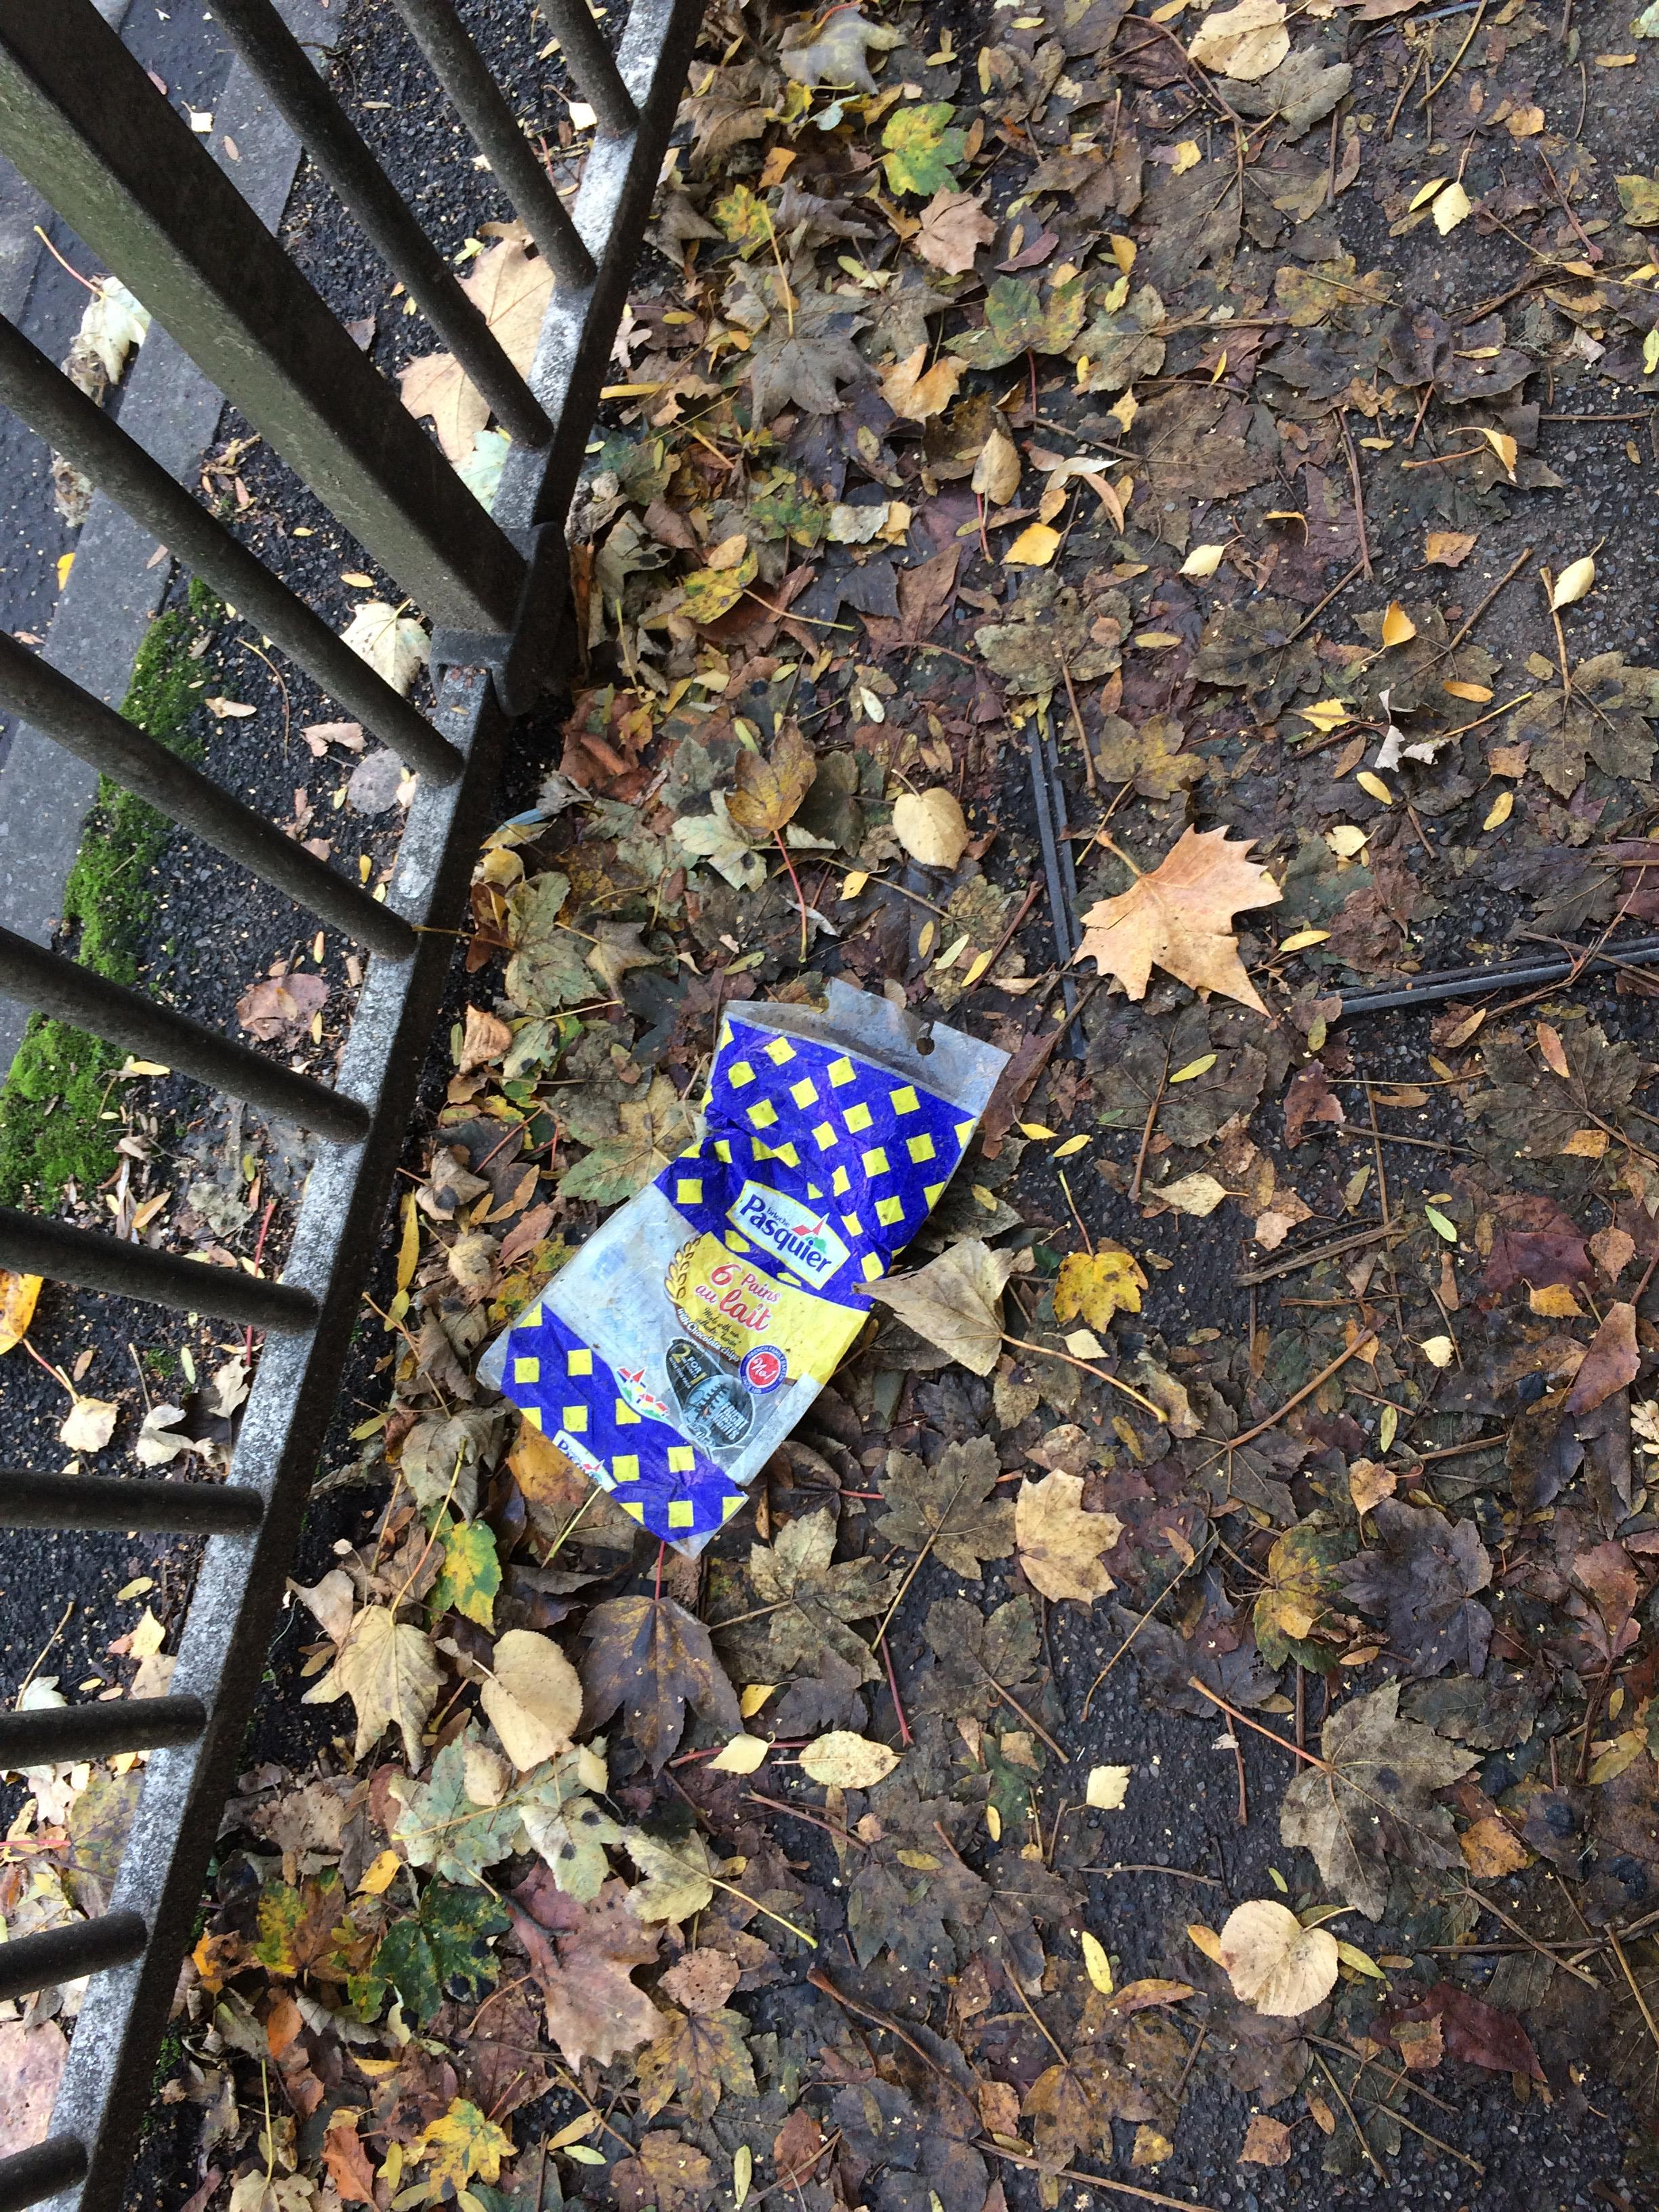Trash: (481, 986, 1009, 1559)
